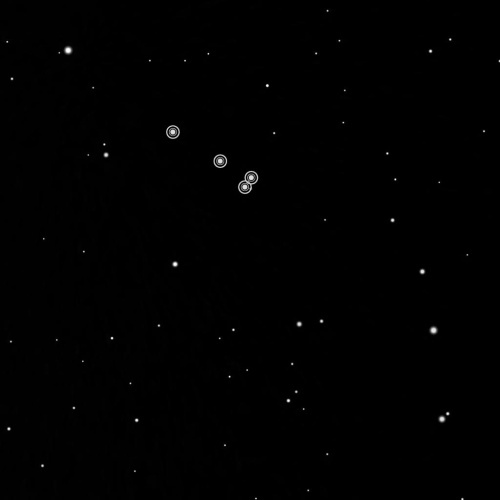sagitta: (160, 118, 262, 200)
